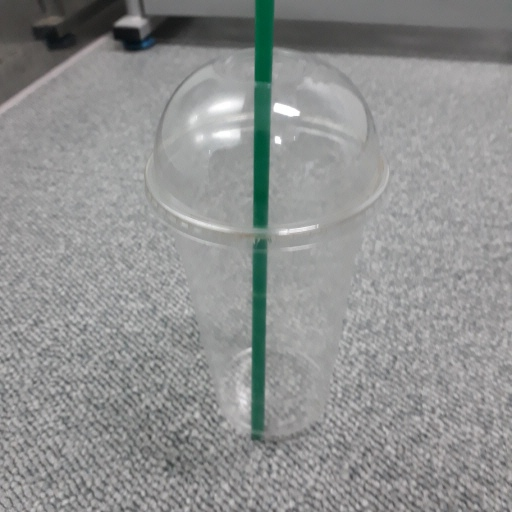Plastic_2: (142, 34, 390, 443)
